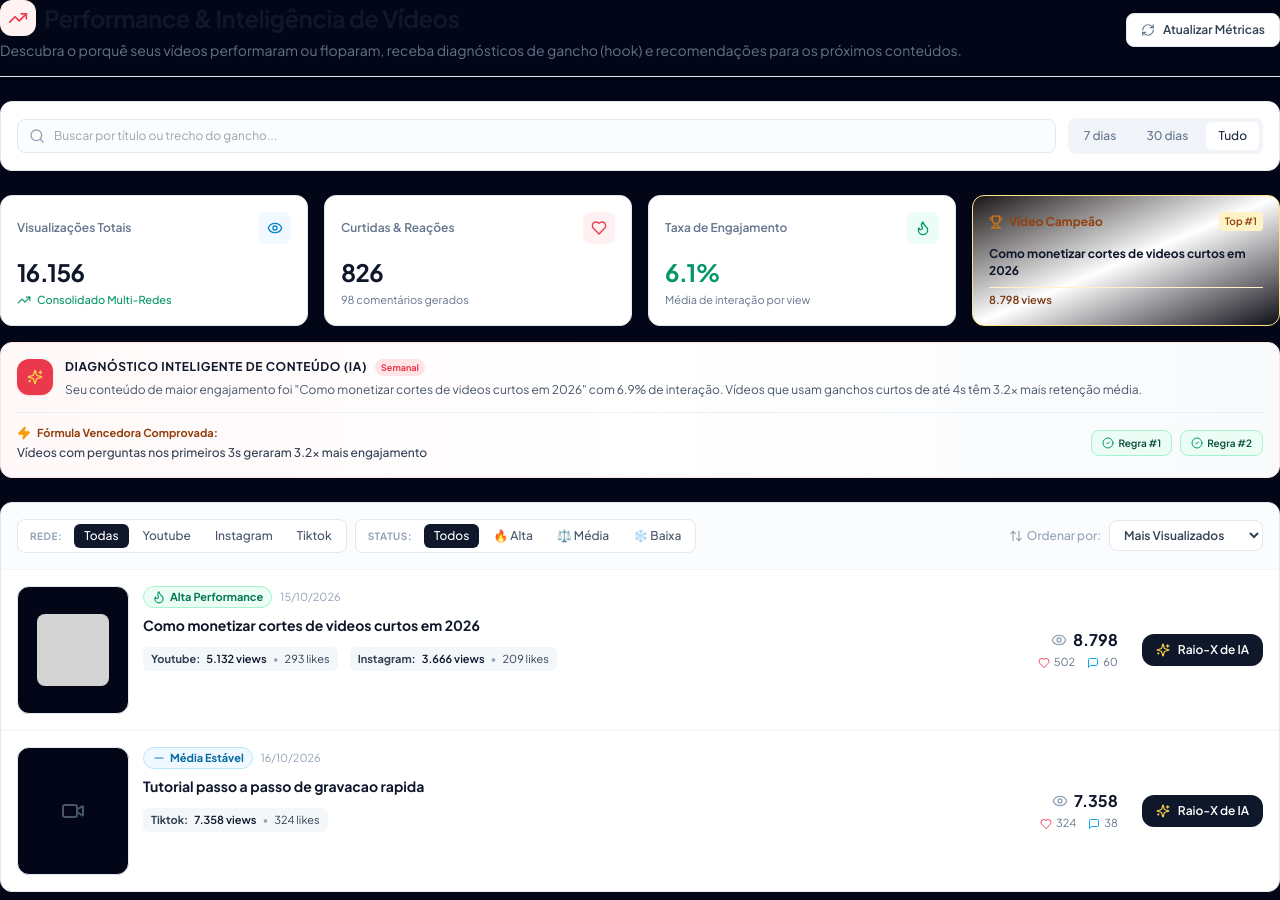
it: AnalyticsDashboard Component › generates 5 script variations when clicking the button inside intelligence drawer and allows copying
# Abre o drawer de diagnóstico
Click the button with test id "btn-open-diagnosis-1".
click(1202, 650)  # box [1142,634,1263,666]
(page scrolled)
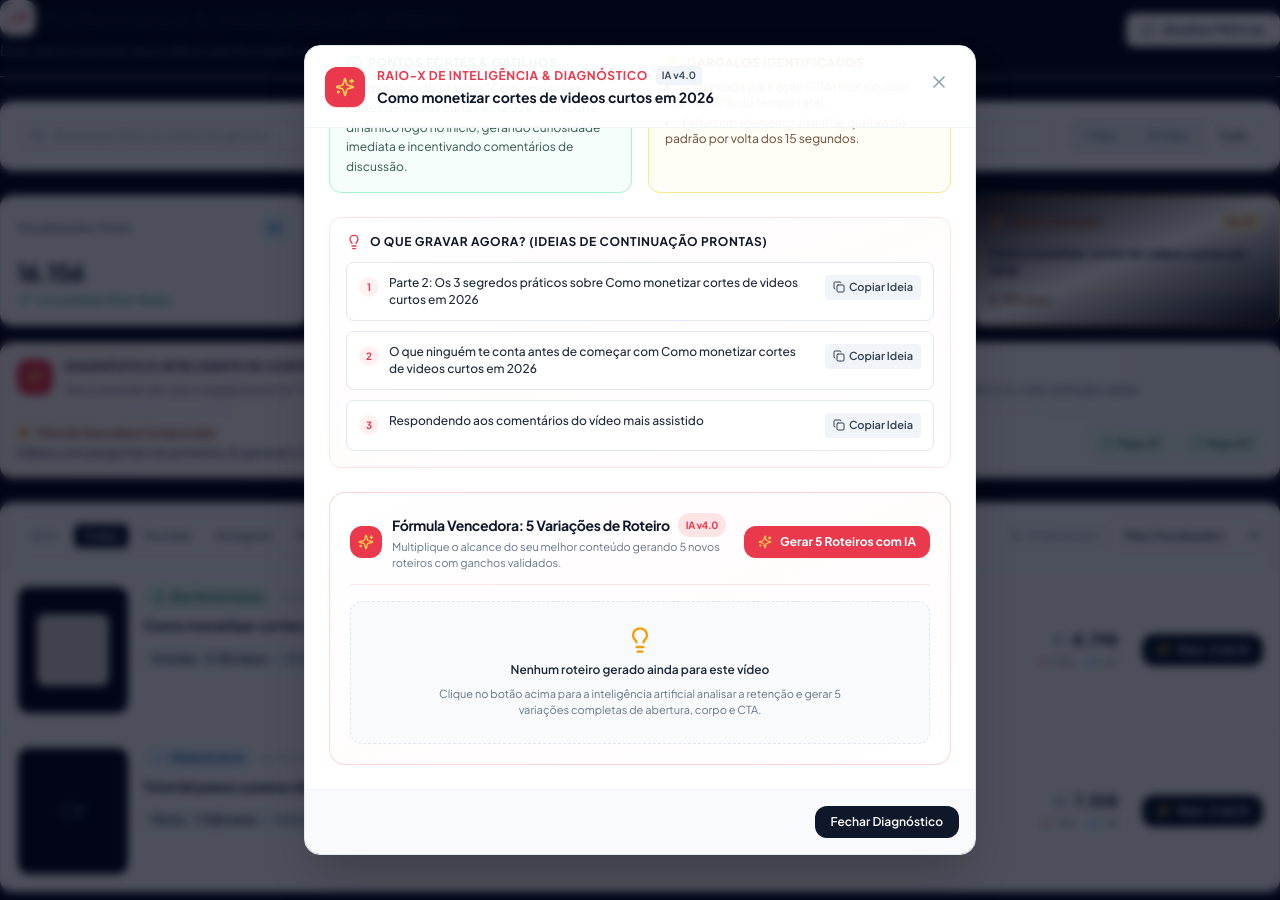
Check: the element with test id "section-script-variations" is shown, box [329,492,951,764]
Check: the button with test id "btn-generate-5-scripts" is shown
# Clica para gerar os 5 roteiros
Click the button with test id "btn-generate-5-scripts".
click(837, 542)  # box [744,526,930,558]
(page scrolled)
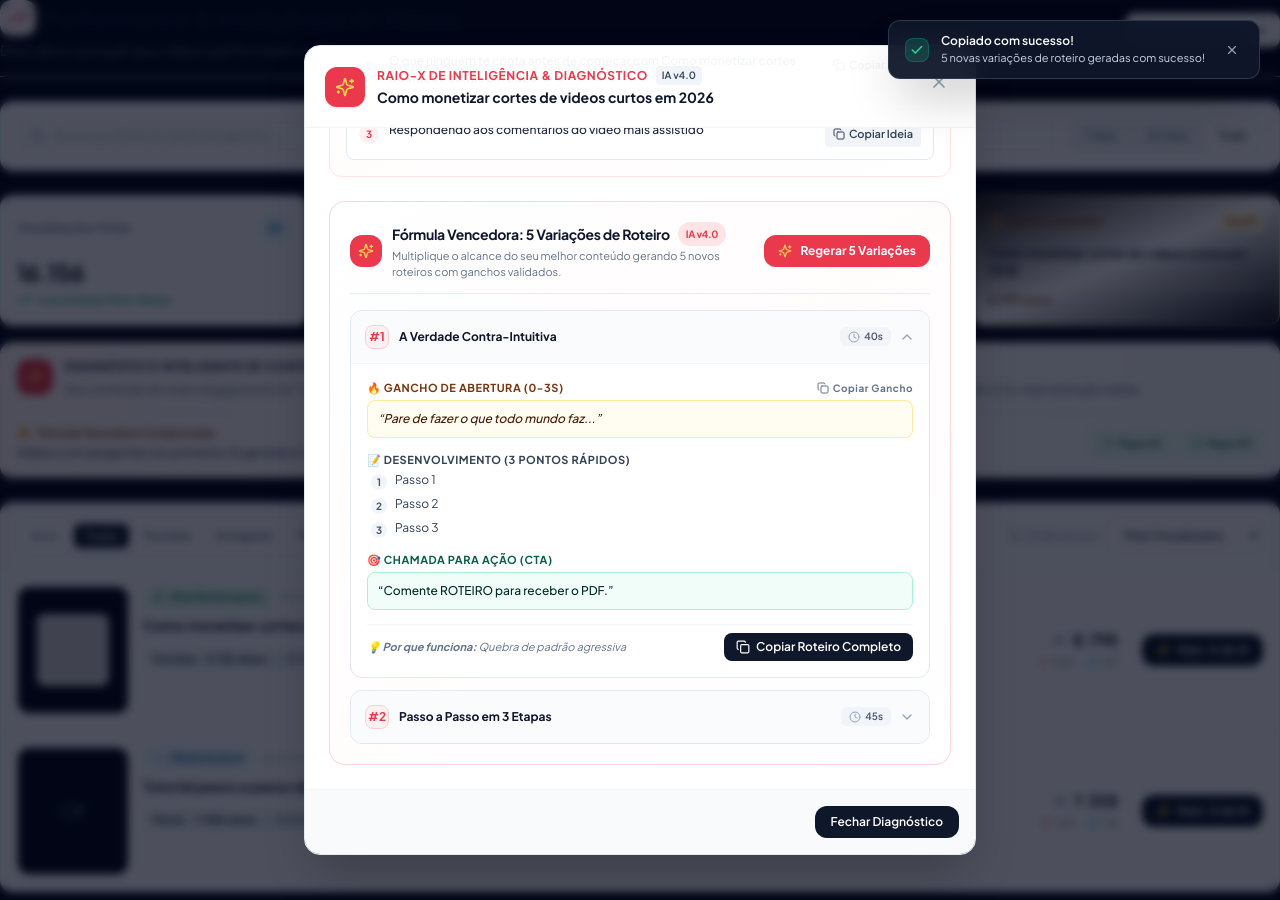
Check: the element with test id "script-variation-card-1" is shown, box [350,310,930,678]
Check: the element with test id "script-variation-card-2" is shown, box [350,690,930,744]
Check: the heading "A Verdade Contra-Intuitiva" is shown, box [399,328,557,344]
Click the button with test id "btn-copy-full-script-1".
click(819, 646)  # box [724,632,913,660]
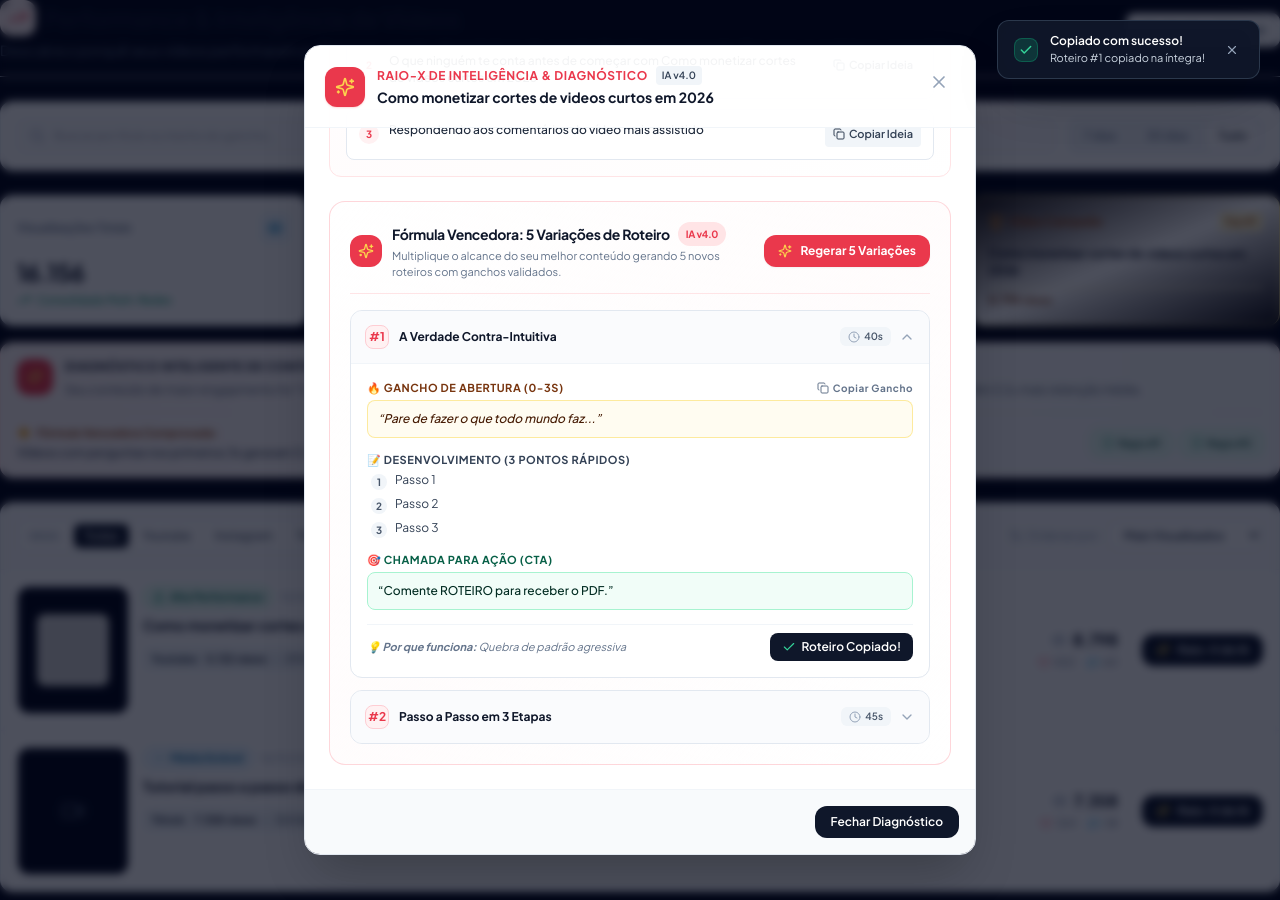
Check: the element with test id "toast-copy-success" is shown, box [997,20,1260,79]
Check: the text "Roteiro #1 copiado na íntegra!" is shown, box [1050,50,1205,66]
